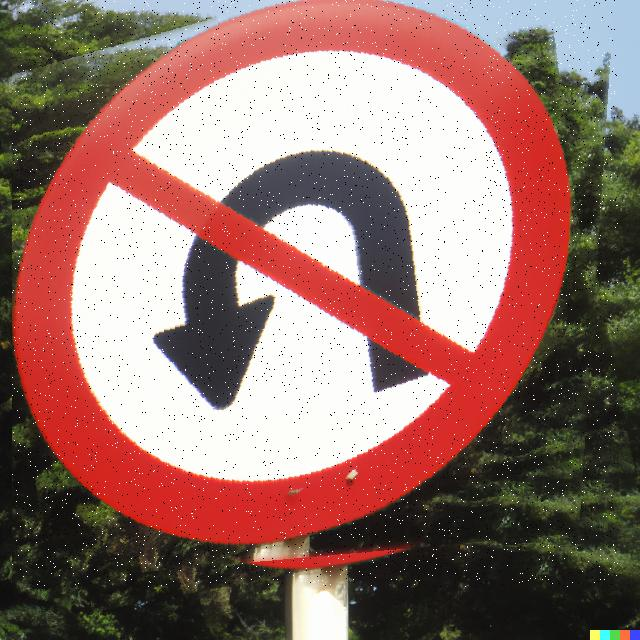no u turn: (12, 0, 618, 587)
